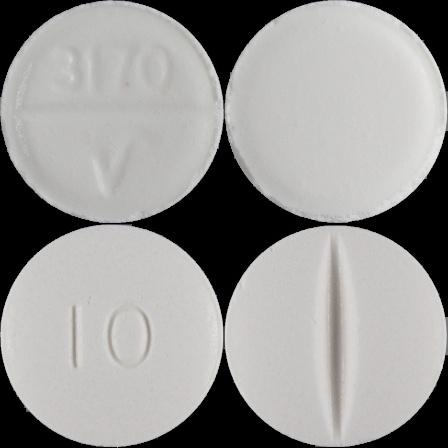35356-873: (0, 0, 224, 224)
